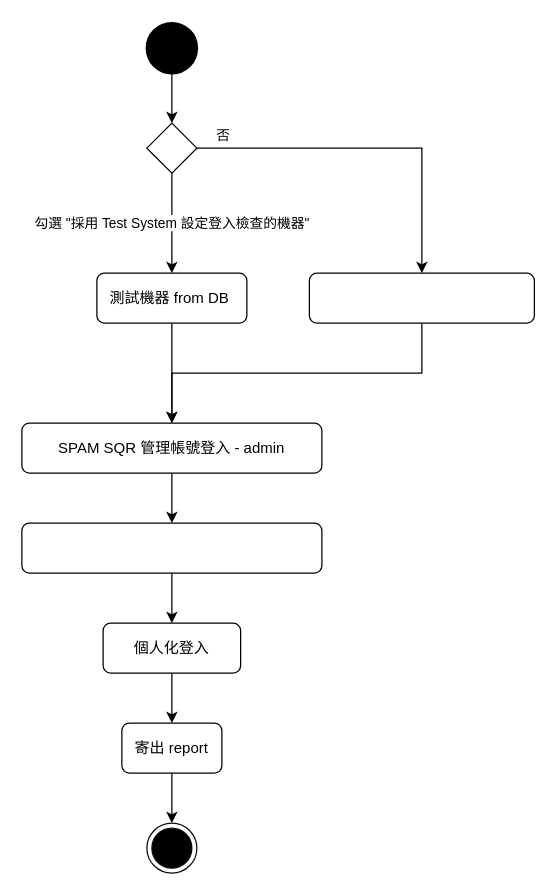
Some shapes in this 556 by 895 pixel diagram are drawn without their labels. Here are the shapes that lost their labels. From the top down, the box of each, then its label:
(308, 272, 534, 323): 測試機器 from 執行畫面勾選
(21, 522, 322, 573): SPAM SQR 管理帳號登入 - customize
